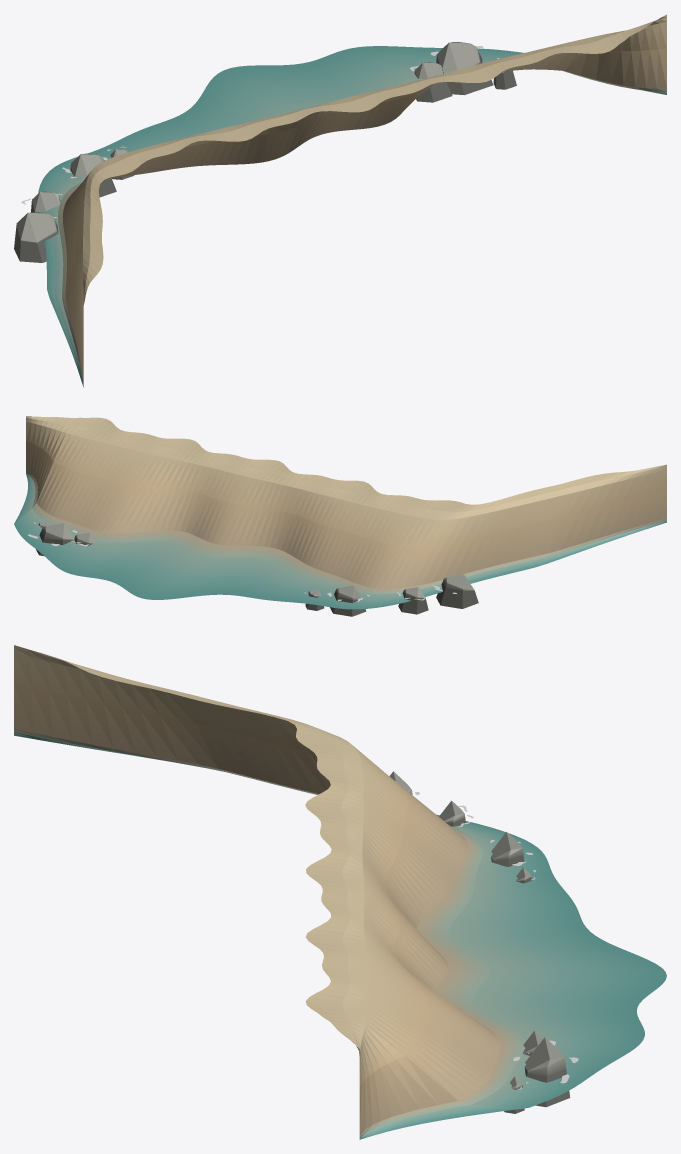
Rendered from CoveSpit.fbx.
3 renders of one model, top to bottom at view 1: azimuth 30°, elevation 25°; view 2: azimuth 150°, elevation 25°; view 3: azimuth 270°, elevation 25°, orthographic. The views are drawn at different scales.
Visible parts, largest first — view 1: SandShelf, Reef0, Reef5, Reef4, Reef2; view 2: SandShelf, Reef0, Reef5, Reef1, Reef2; view 3: SandShelf, Reef5, Reef2.
Part boxes in pixels (x1=…): SandShelf: x1=38, y1=14, x2=666, y2=387; Reef0: x1=14, y1=212, x2=58, y2=262; Reef5: x1=436, y1=42, x2=493, y2=95; Reef4: x1=414, y1=62, x2=452, y2=102; Reef2: x1=70, y1=153, x2=116, y2=197; SandShelf: x1=14, y1=416, x2=666, y2=609; Reef0: x1=436, y1=574, x2=478, y2=608; Reef5: x1=36, y1=523, x2=74, y2=556; Reef1: x1=398, y1=587, x2=428, y2=614; Reef2: x1=330, y1=585, x2=366, y2=616; SandShelf: x1=14, y1=645, x2=666, y2=1139; Reef5: x1=524, y1=1037, x2=570, y2=1107; Reef2: x1=491, y1=832, x2=524, y2=866.
Bounding box in the file's own units: 126 × 16 × 86.19.
